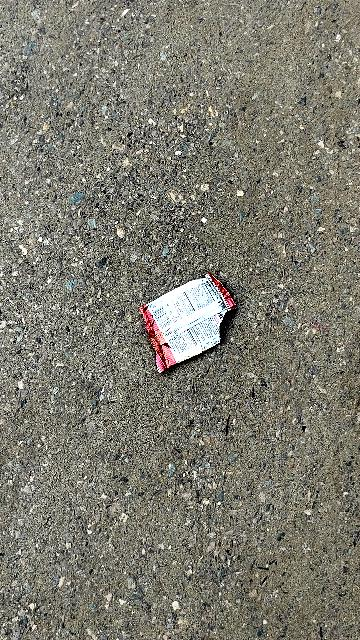packet: (134, 274, 238, 367)
